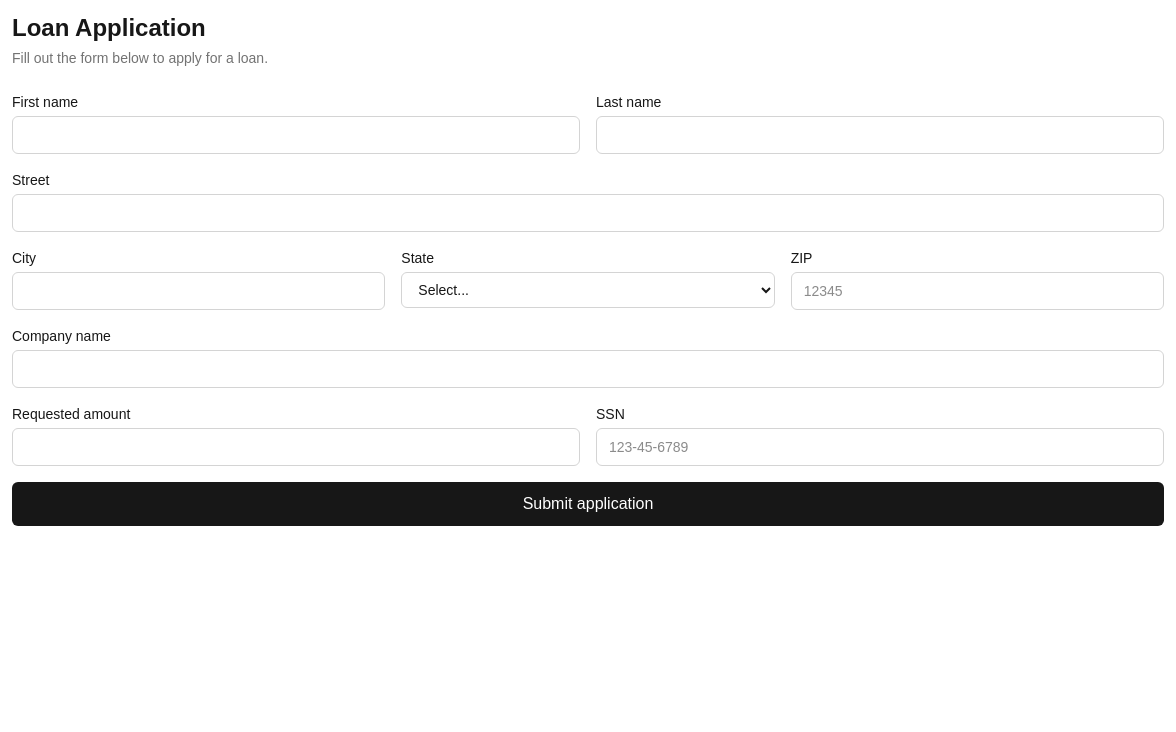
Scenario: LoanApplicationForm › only accepts digits in the ZIP and adds the dash after 5
Type "ab12345cd6789" into the field labelled "ZIP". click: point(977, 291)
box: x1=791 y1=272 x2=1164 y2=310
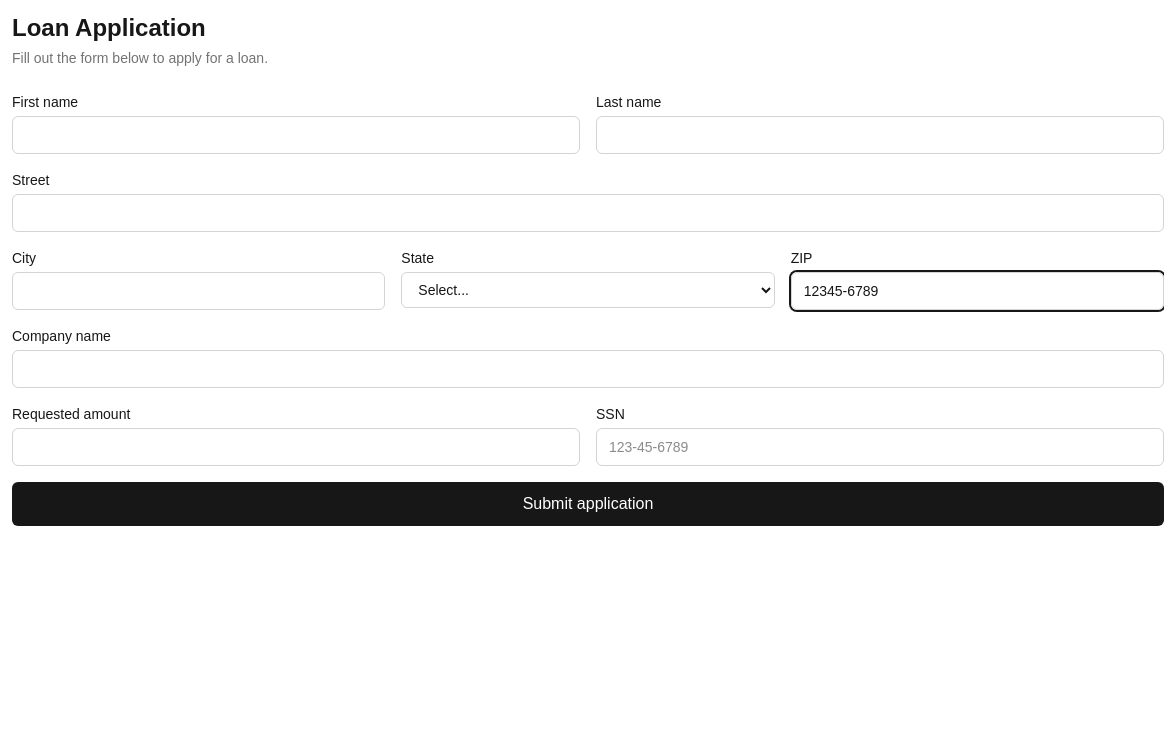
Expected: the field labelled "ZIP" holds "12345-6789", x1=791 y1=272 x2=1164 y2=310
